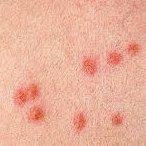Fleas: (10, 81, 42, 106), (100, 46, 125, 71), (77, 53, 101, 77), (28, 105, 44, 125), (73, 111, 86, 131), (110, 111, 124, 127), (127, 42, 139, 57)
